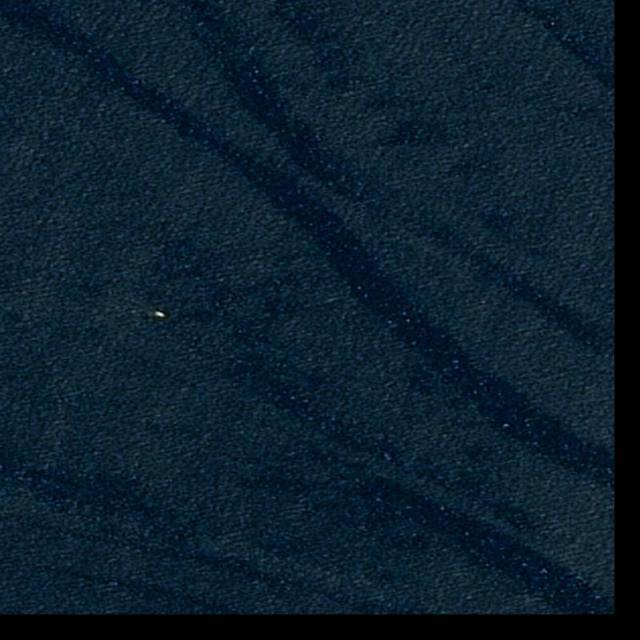ship: (154, 310, 166, 319)
